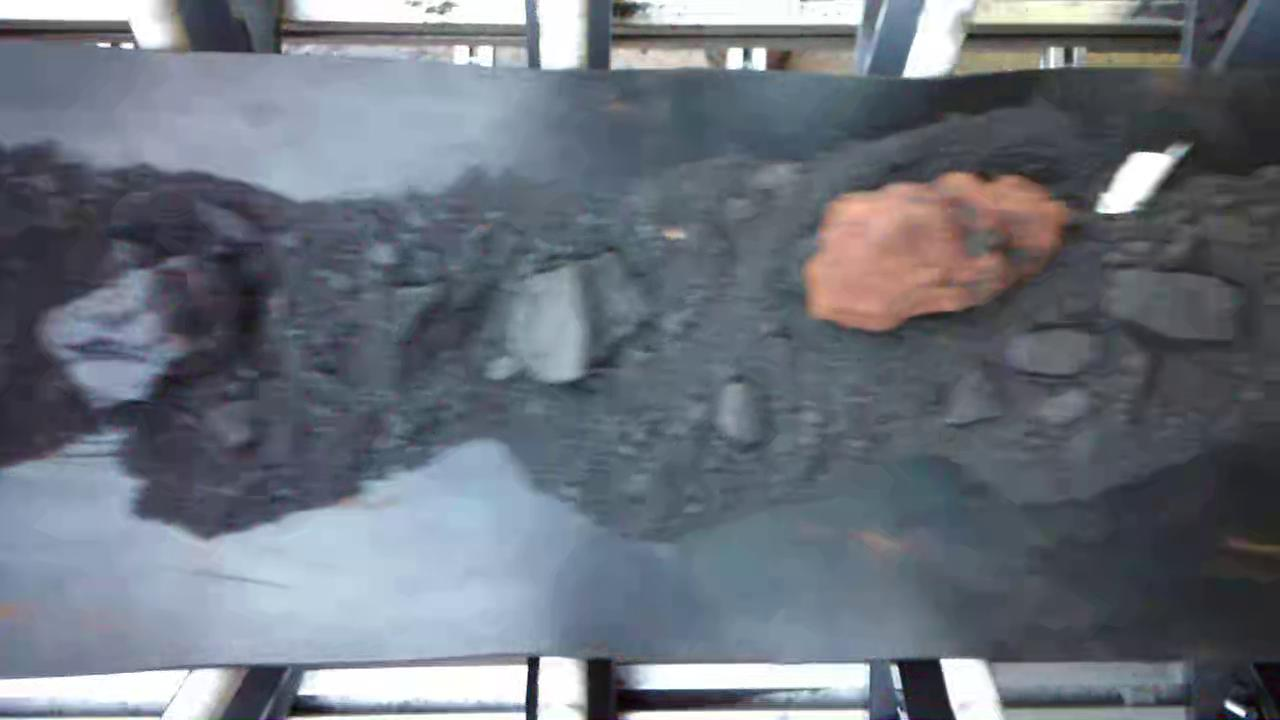conveyor: (0, 84, 1280, 656)
